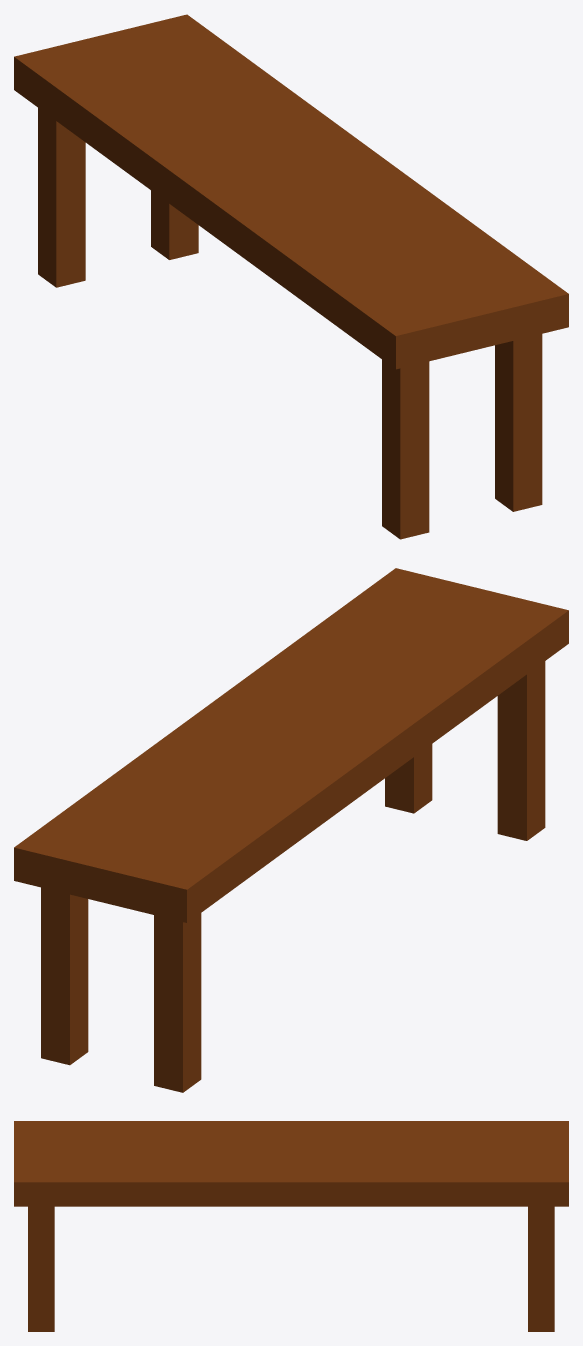
The model's file is Bench_0.fbx.
3 views of the same model, one above another, from view 1: azimuth 30°, elevation 25°; view 2: azimuth 150°, elevation 25°; view 3: azimuth 270°, elevation 25° (orthographic). The views are drawn at different scales.
Visible parts, largest first — view 1: Board, Stay.002, Stay.003, Stay.001, Stay; view 2: Board, Stay.001, Stay, Stay.002, Stay.003; view 3: Board, Stay, Stay.003.
Part boxes in pixels (x1,y1,x2,y2): Board: [14, 14, 568, 369]; Stay.002: [382, 359, 429, 539]; Stay.003: [495, 334, 542, 511]; Stay.001: [38, 108, 85, 287]; Stay: [151, 190, 198, 259]; Board: [14, 568, 568, 922]; Stay.001: [154, 913, 201, 1092]; Stay: [41, 887, 88, 1065]; Stay.002: [497, 661, 545, 840]; Stay.003: [385, 744, 432, 813]; Board: [14, 1121, 568, 1206]; Stay: [528, 1206, 554, 1331]; Stay.003: [28, 1206, 54, 1331].
Size of the model in its own units: 61.09 by 72.09 by 233.
